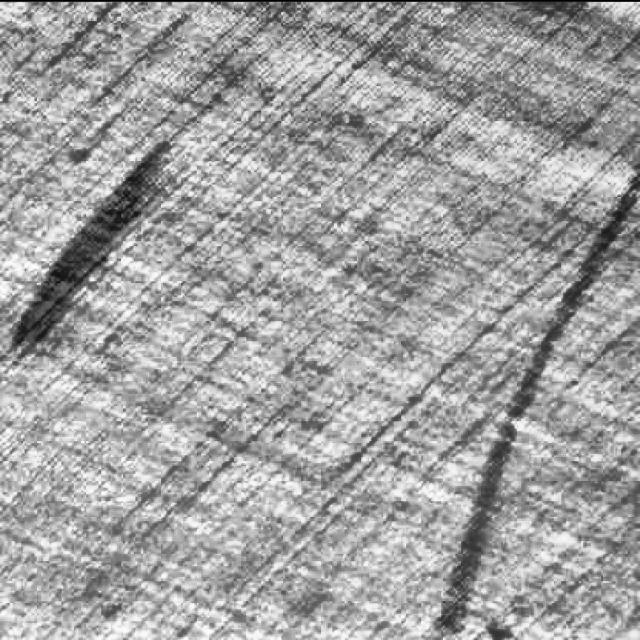oil_spot: (421, 167, 640, 640), (5, 125, 190, 378)
